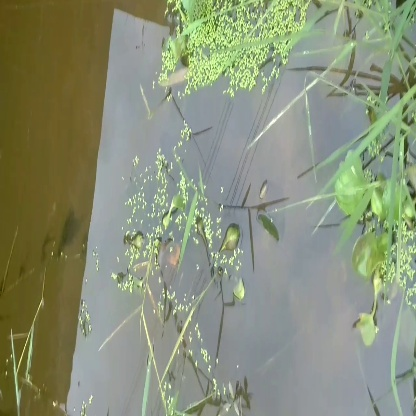leaf: (325, 156, 377, 226)
